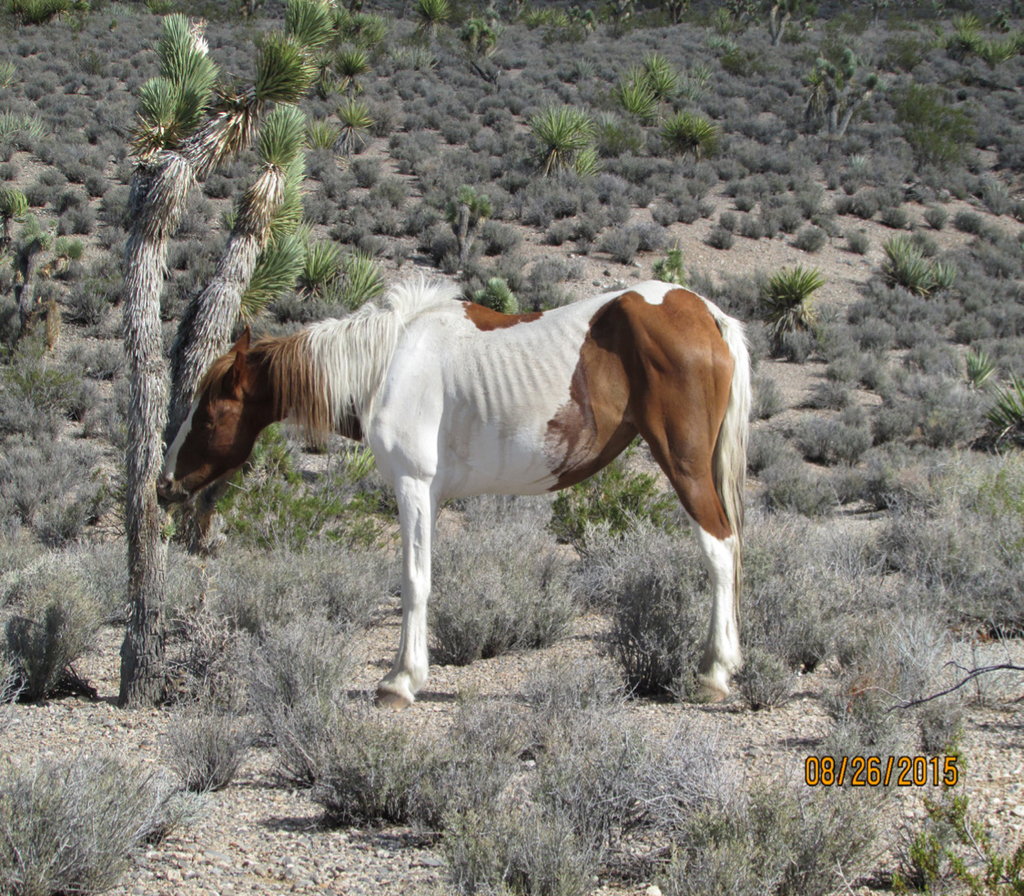horse: (155, 261, 758, 717)
